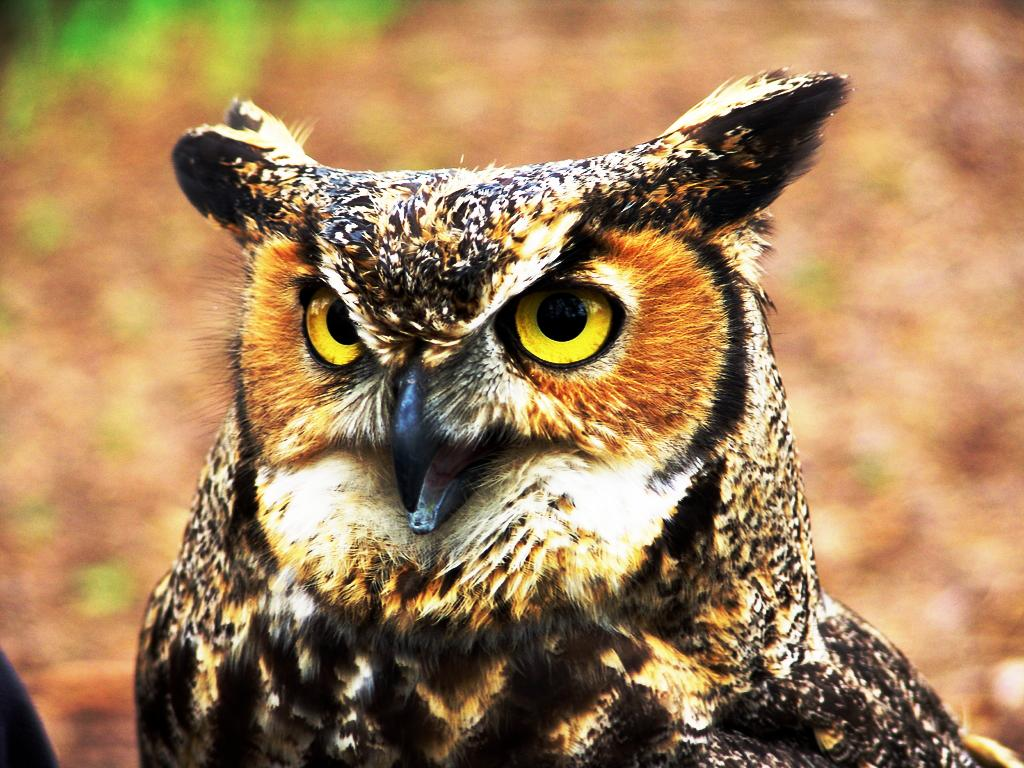Owl: (133, 63, 1016, 768)
